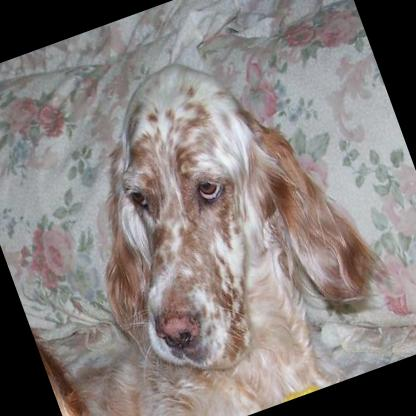English_setter: (0, 17, 414, 416)
